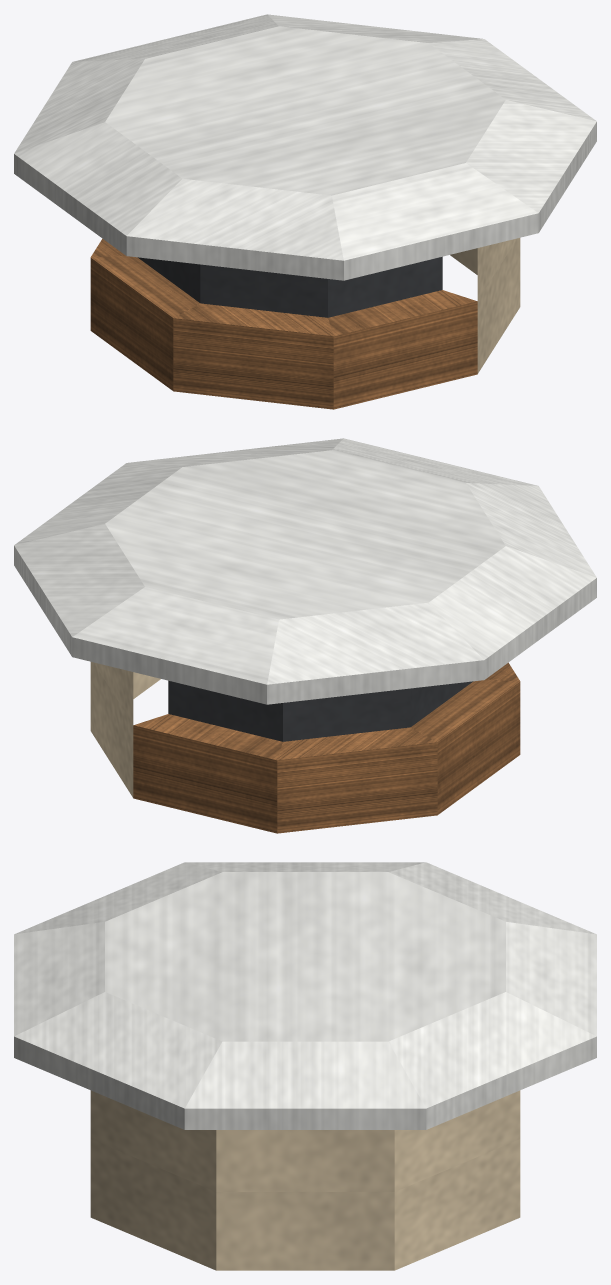
The model's file is SM_Morin_ChioscoOttagonale_v2_LOD2.fbx.
3 views of the same model, one above another, from view 1: azimuth 30°, elevation 25°; view 2: azimuth 150°, elevation 25°; view 3: azimuth 270°, elevation 25° (orthographic). The views are drawn at different scales.
Visible parts, largest first — view 1: SM_Morin_ChioscoOttagonale_v2_LOD2; view 2: SM_Morin_ChioscoOttagonale_v2_LOD2; view 3: SM_Morin_ChioscoOttagonale_v2_LOD2.
Part boxes in pixels (<box>): SM_Morin_ChioscoOttagonale_v2_LOD2: <box>14,14,596,409</box>; SM_Morin_ChioscoOttagonale_v2_LOD2: <box>14,438,596,833</box>; SM_Morin_ChioscoOttagonale_v2_LOD2: <box>14,862,596,1270</box>.
Size of the model in its own units: 739 by 739 by 312.
2 materials, 2 textured.
